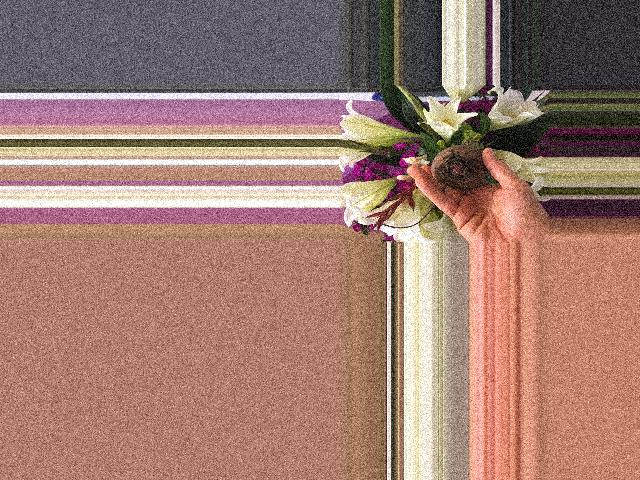beet: (429, 145, 486, 191)
